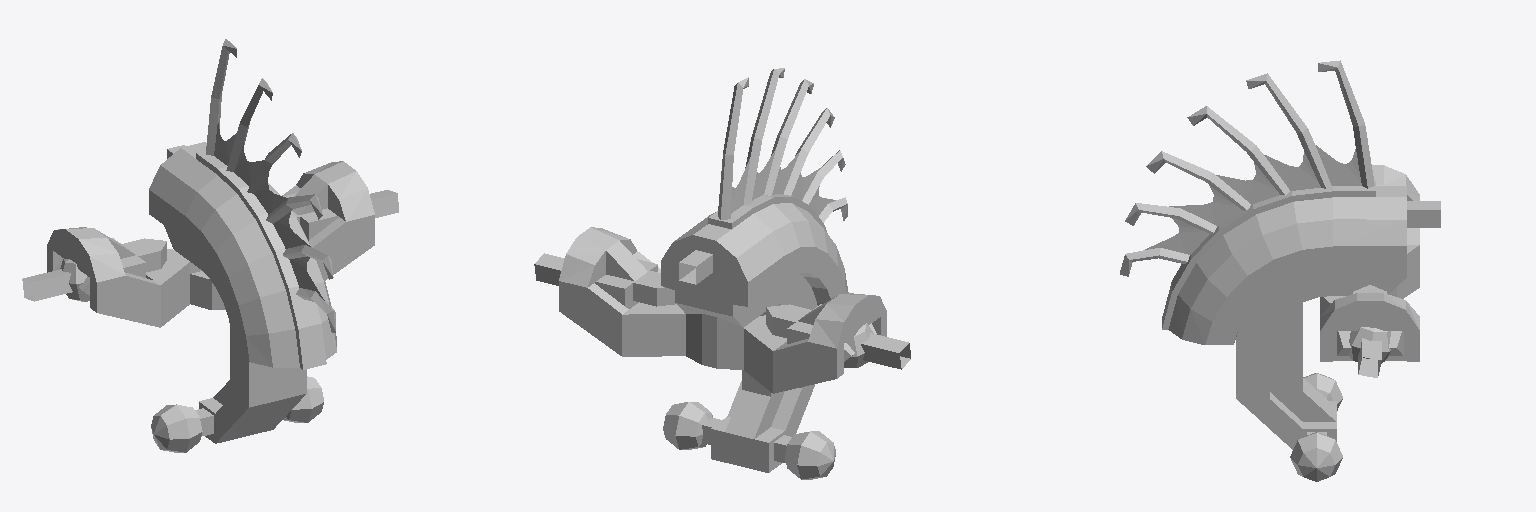
Rendered from guurahk_body.obj.
The picture shows the model from 3 angles: view 1: azimuth 30°, elevation 25°; view 2: azimuth 150°, elevation 25°; view 3: azimuth 270°, elevation 25°; orthographic projection.
Visible parts, largest first — view 1: 3.008_3.009; view 2: 3.008_3.009; view 3: 3.008_3.009.
Part boxes in pixels (x1,y1,x2,y2): 3.008_3.009: (22,39,398,452); 3.008_3.009: (534,68,910,479); 3.008_3.009: (1120,60,1440,481).
Size of the model in its own units: 1.48 by 1.51 by 1.12.